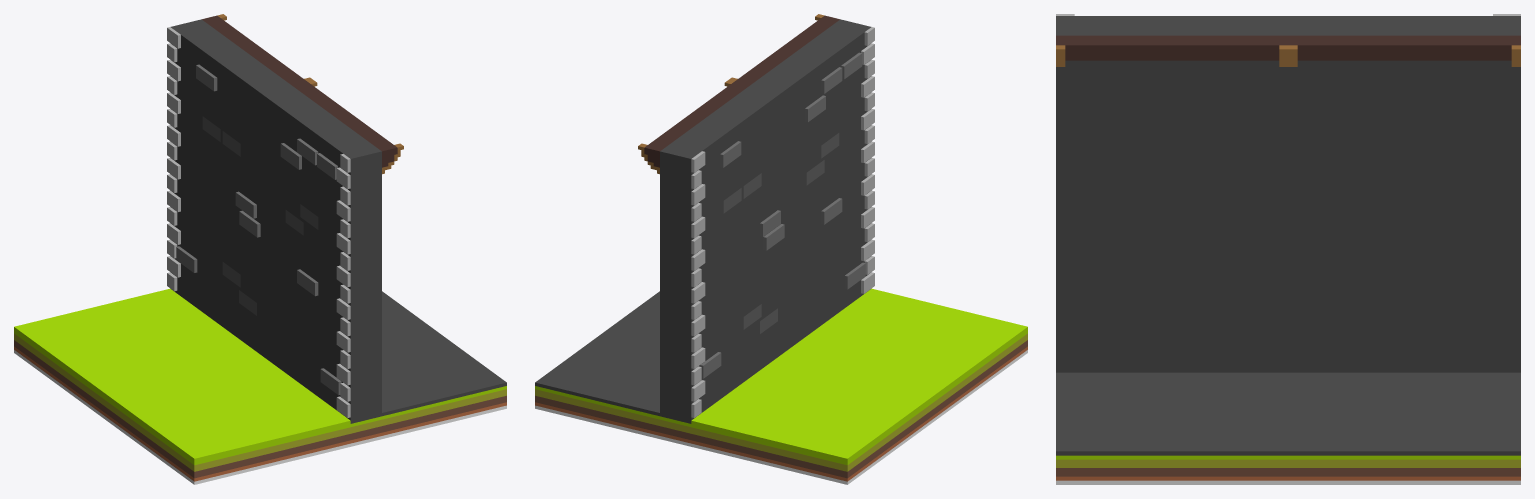
File: House-8-House Wall.obj
The picture shows the model from 3 angles, left to right: view 1: azimuth 30°, elevation 25°; view 2: azimuth 150°, elevation 25°; view 3: azimuth 270°, elevation 25°; orthographic projection. The views are drawn at different scales.
Parts seen in each view (by area): view 1: House Wall; view 2: House Wall; view 3: House Wall.
Boxes of the visible parts, x1,y1,x2,y2 form: House Wall: (14, 14, 506, 484); House Wall: (535, 14, 1027, 484); House Wall: (1056, 14, 1520, 484).
Bounding box in the file's own units: 10 × 8.8 × 10.
1 material, 1 textured.
